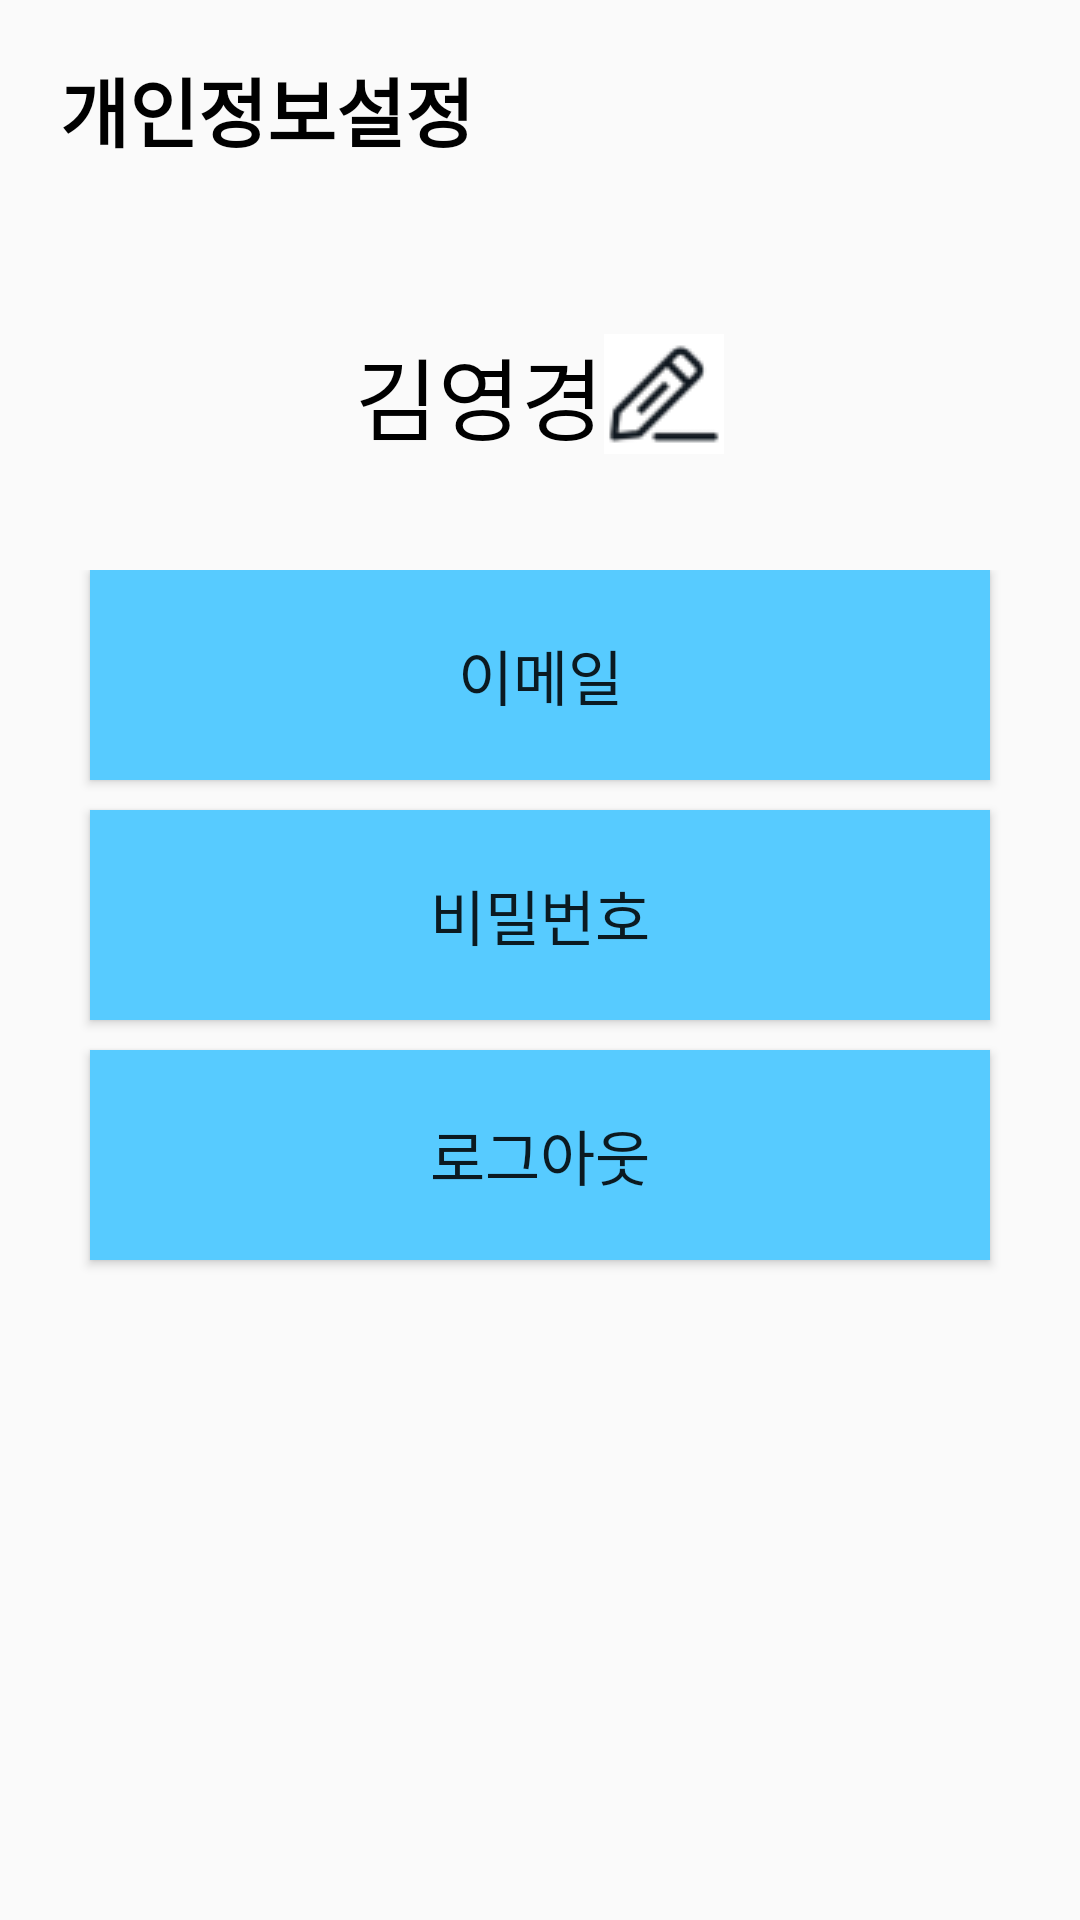

Point at icon controls on the screen. Image size 1080 × 1920, points as point (x, y).
pencil: point (664, 394)
